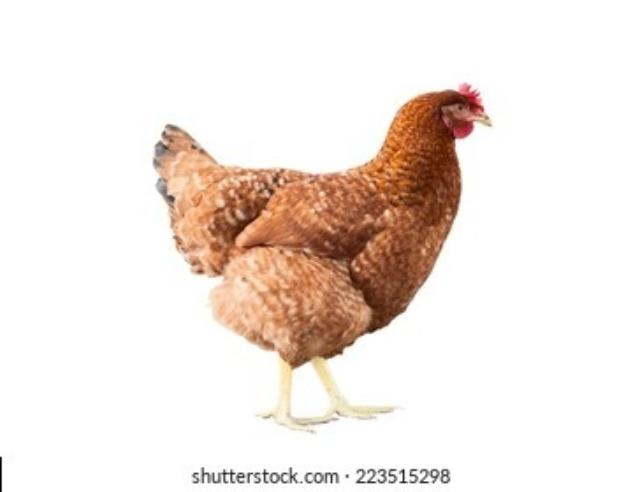Chicken: (151, 82, 492, 437)
